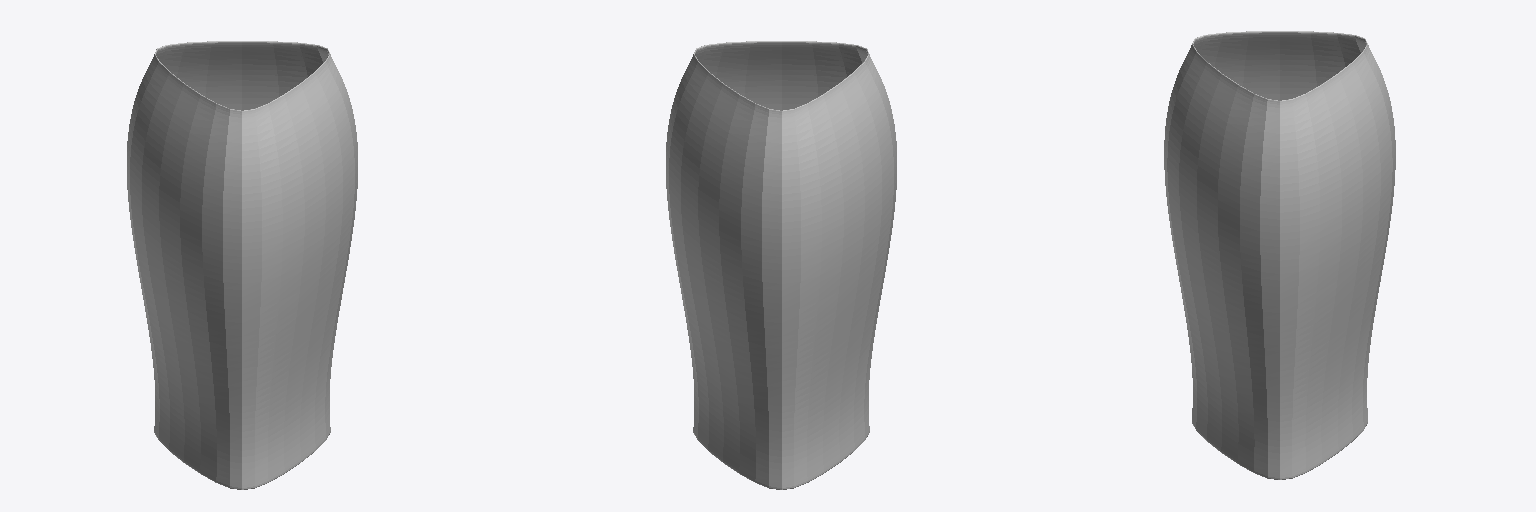
The model's file is build-vase-2.obj.
The picture shows the model from 3 angles: view 1: azimuth 30°, elevation 25°; view 2: azimuth 150°, elevation 25°; view 3: azimuth 270°, elevation 25°; orthographic projection.
Parts seen in each view (by area): view 1: VaseGenerator; view 2: VaseGenerator; view 3: VaseGenerator.
Boxes of the visible parts, x1=… form: VaseGenerator: x1=127, y1=41, x2=357, y2=489; VaseGenerator: x1=666, y1=41, x2=896, y2=489; VaseGenerator: x1=1164, y1=31, x2=1395, y2=479.
Size of the model in its own units: 0.0811 by 0.1521 by 0.084.